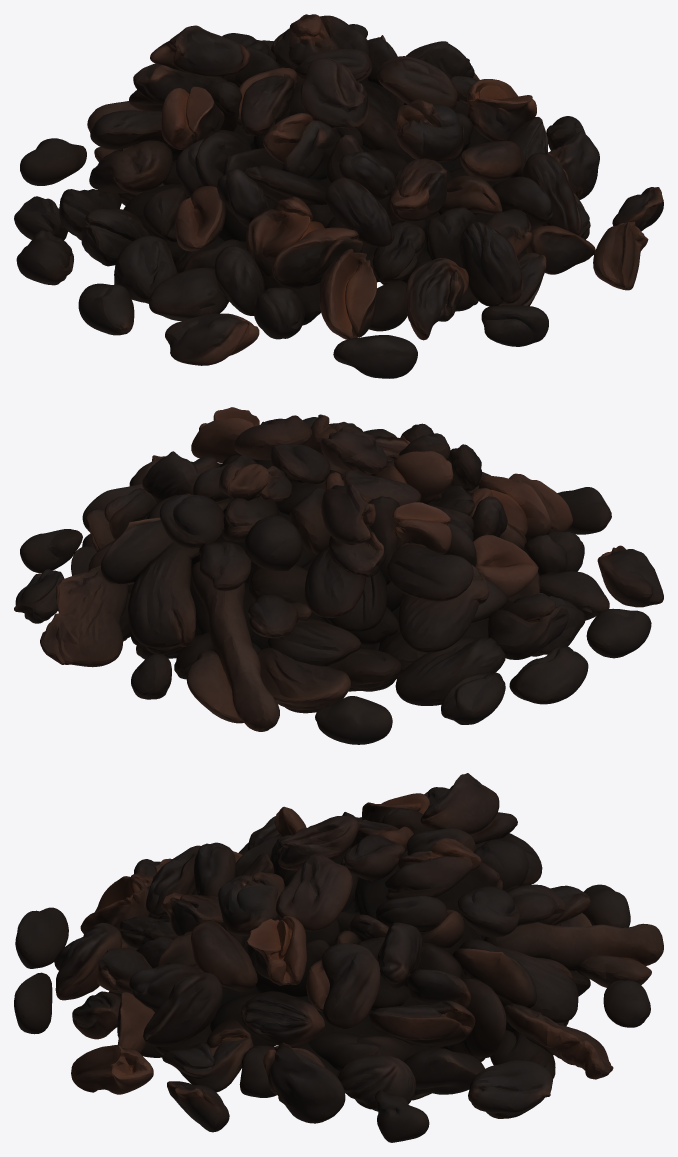
Rendered from lod_basic_pbr.fbx.
3 renders of one model, top to bottom at view 1: azimuth 30°, elevation 25°; view 2: azimuth 150°, elevation 25°; view 3: azimuth 270°, elevation 25°, orthographic. The views are drawn at different scales.
Parts seen in each view (by area): view 1: model_LOD0; view 2: model_LOD0; view 3: model_LOD0.
Boxes of the visible parts, x1=… form: model_LOD0: x1=14, y1=14, x2=663, y2=378; model_LOD0: x1=14, y1=407, x2=663, y2=744; model_LOD0: x1=14, y1=773, x2=663, y2=1142.
Size of what is drawn, in the model's own units: 190 by 63.15 by 187.
1 material, 1 textured.
